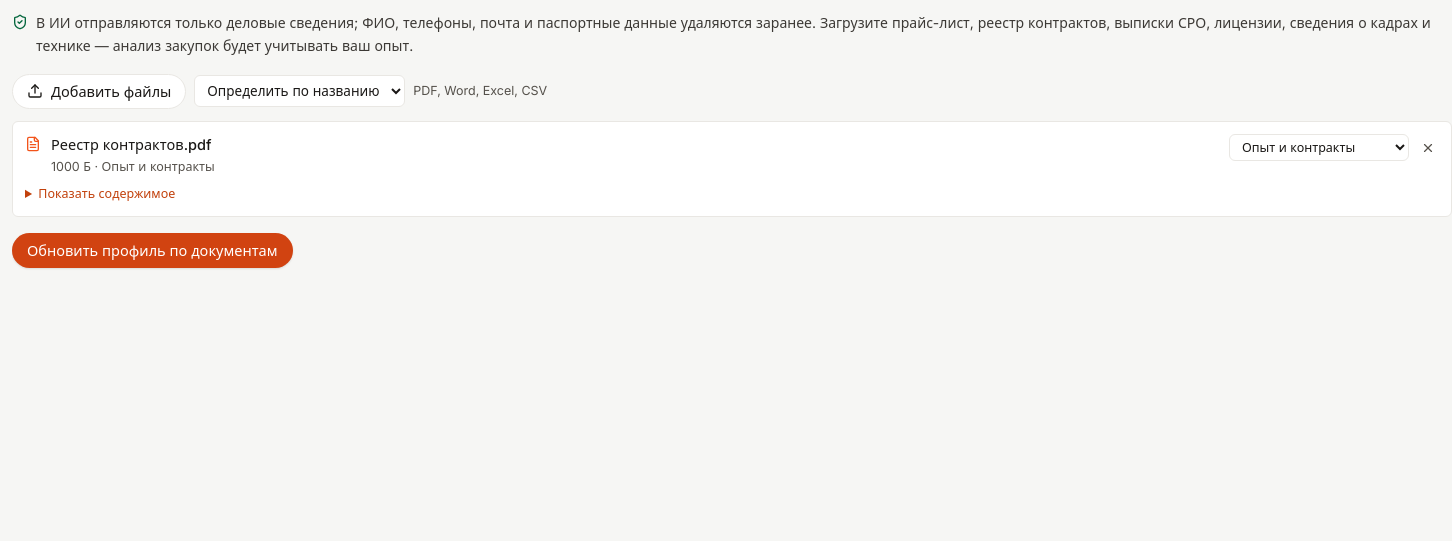
Test: CompanyFactsSection › отправка уходит с очищенным текстом и кладёт факты в анкету
What coordinates should you click on to do the following:
click the button "Обновить профиль по документам"
I would click on:
 (152, 250)
Its box is x1=12 y1=232 x2=292 y2=268.
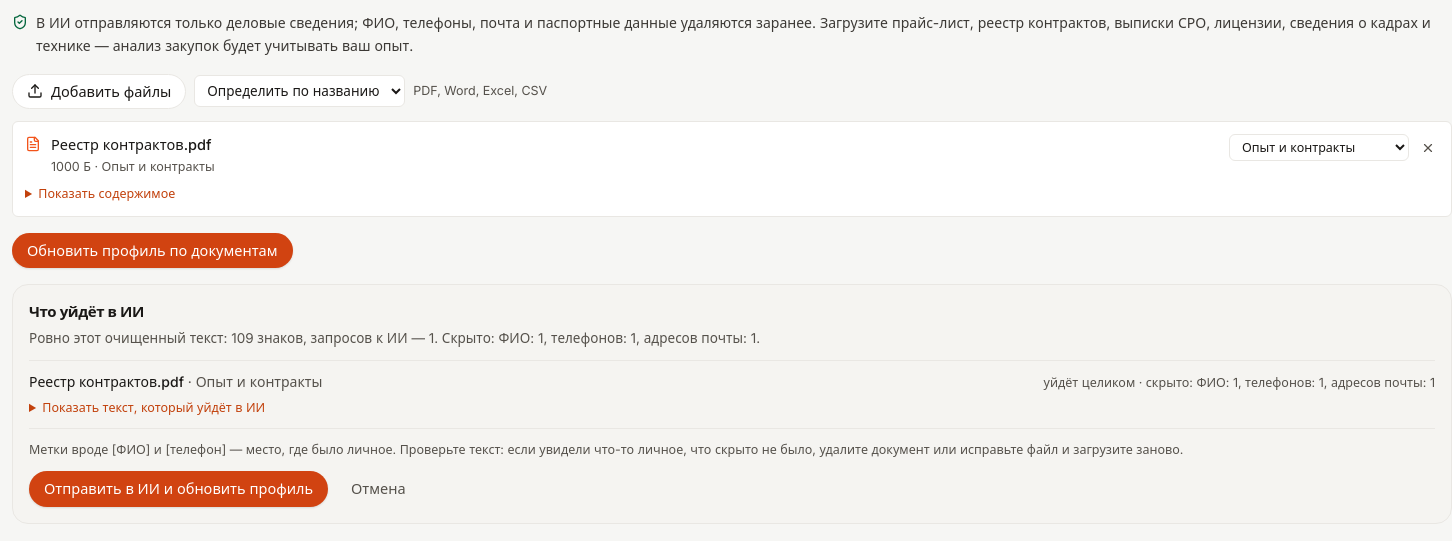
What coordinates should you click on to do the following:
click the button "Отправить в ИИ и обновить профиль"
I would click on:
 (178, 489)
Its box is x1=29 y1=471 x2=328 y2=507.
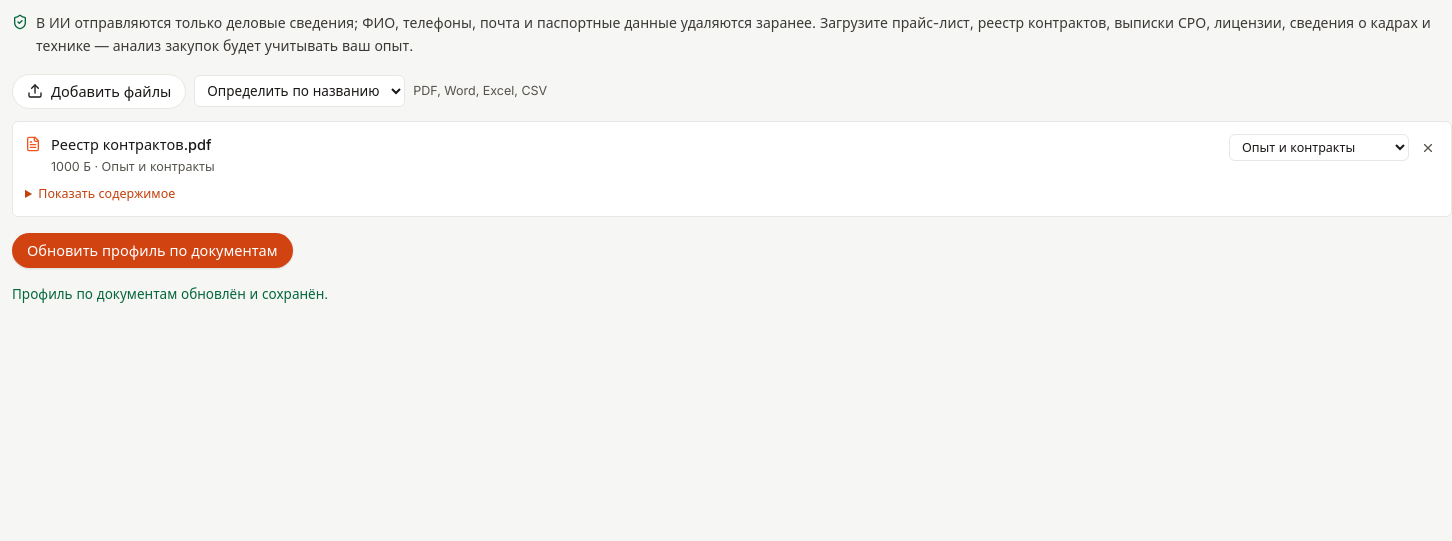
Expected: the text "Профиль по документам обновлён и сохранён." is shown, x1=12 y1=286 x2=328 y2=302
